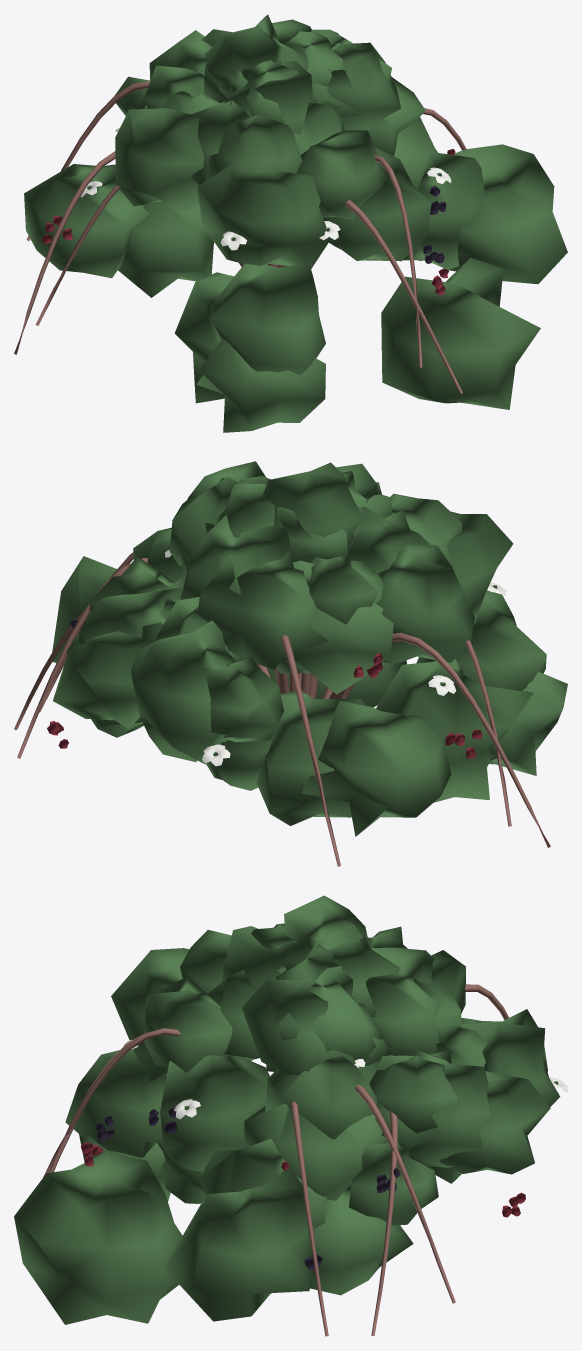
Rendered from bramble-scrub-v1.glb.
The picture shows the model from 3 angles, top to bottom: view 1: azimuth 30°, elevation 25°; view 2: azimuth 150°, elevation 25°; view 3: azimuth 270°, elevation 25°; orthographic projection. The views are drawn at different scales.
Visible parts, largest first — view 1: berries; view 2: berries; view 3: berries.
Boxes of the visible parts, x1,y1,x2,y2 form: berries: (14,14,567,432); berries: (14,461,567,866); berries: (14,895,567,1336).
Bounding box in the file's own units: 1.29 × 0.8134 × 1.17.
1 material, 1 textured.
